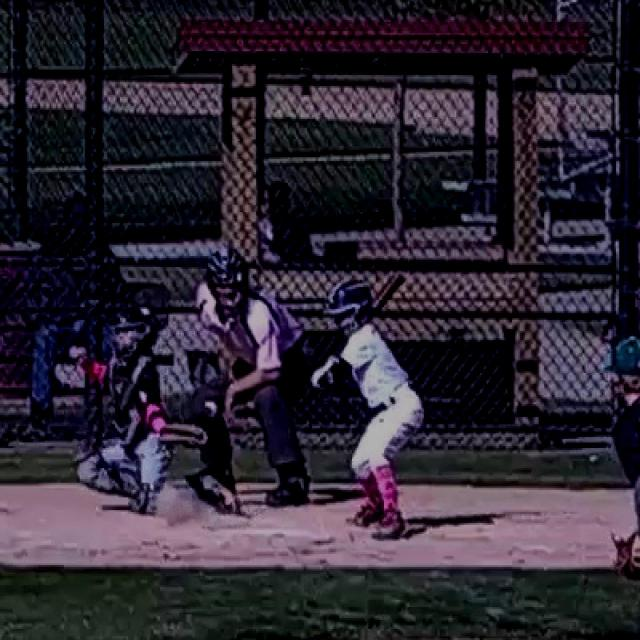baseball: (206, 402, 217, 416)
